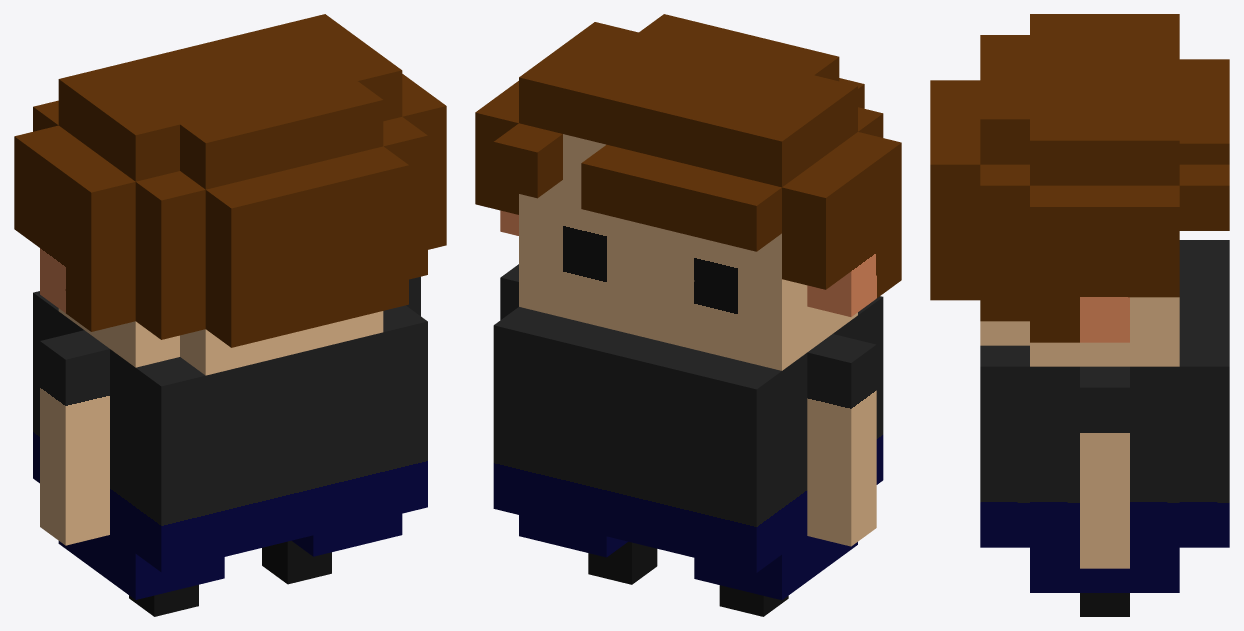
The model's file is chr_mike.dae.
3 renders of one model, left to right at view 1: azimuth 30°, elevation 25°; view 2: azimuth 150°, elevation 25°; view 3: azimuth 270°, elevation 25°, orthographic. The views are drawn at different scales.
Parts seen in each view (by area): view 1: chr_mike; view 2: chr_mike; view 3: chr_mike.
Boxes of the visible parts, x1=… form: chr_mike: x1=14, y1=14, x2=446, y2=616; chr_mike: x1=475, y1=14, x2=901, y2=616; chr_mike: x1=930, y1=14, x2=1229, y2=616.
Size of the model in its own units: 0.8 by 0.6 by 1.1.
Materials: 1 (1 with a texture image).
